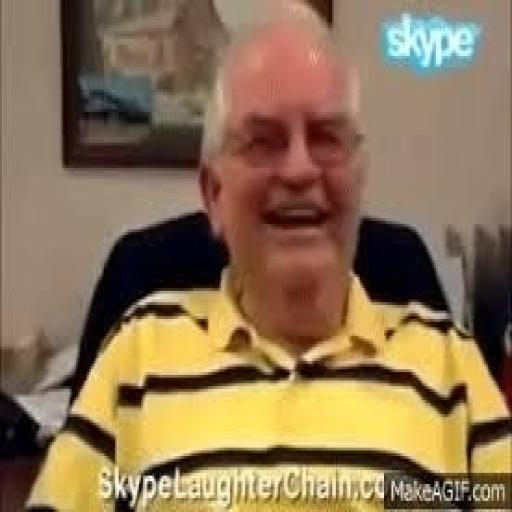laughing: (24, 11, 507, 504)
